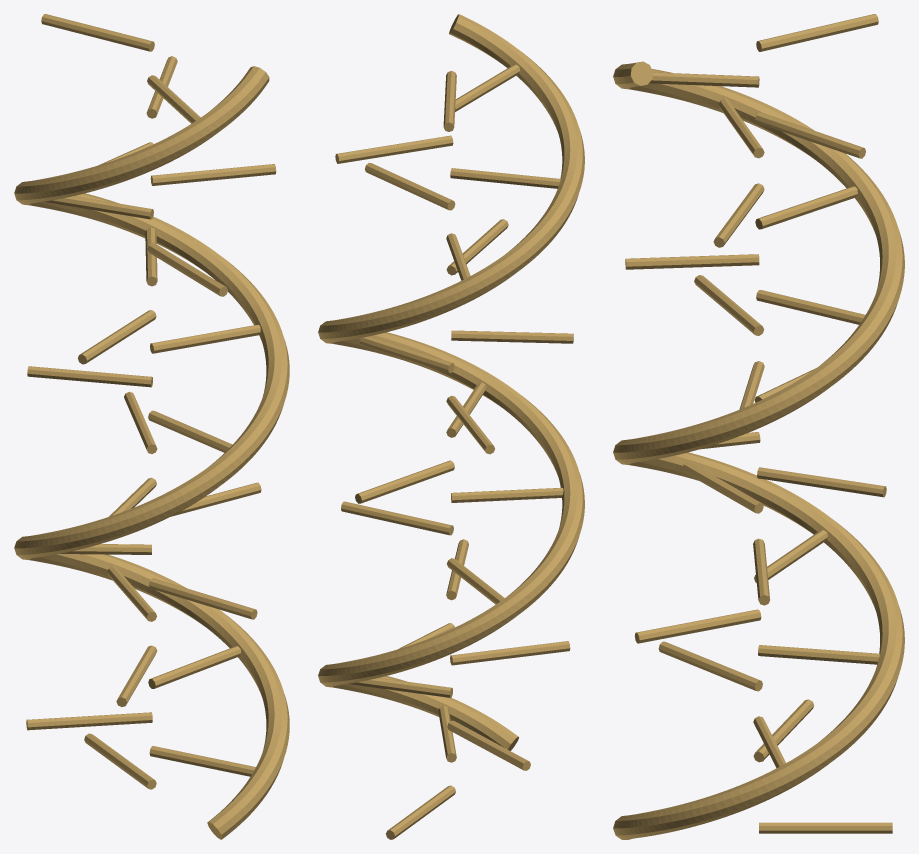
The model's file is biology--helix-gold.glb.
3 views of the same model, side by side, from view 1: azimuth 30°, elevation 25°; view 2: azimuth 150°, elevation 25°; view 3: azimuth 270°, elevation 25° (orthographic). The views are drawn at different scales.
Visible parts, largest first — view 1: biology; view 2: biology; view 3: biology.
Part boxes in pixels (<box>): biology: <box>14,14,289,839</box>; biology: <box>318,14,584,839</box>; biology: <box>613,14,904,839</box>.
Bounding box in the file's own units: 1.53 × 4.63 × 1.53.
